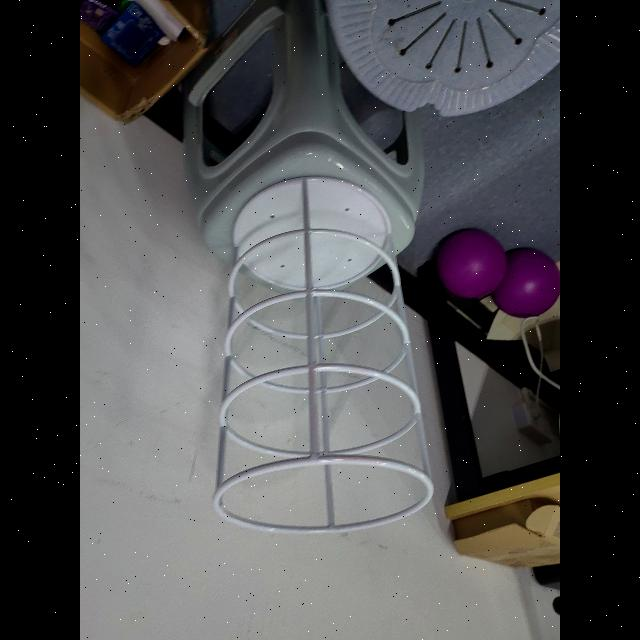S: (208, 168, 436, 538)
